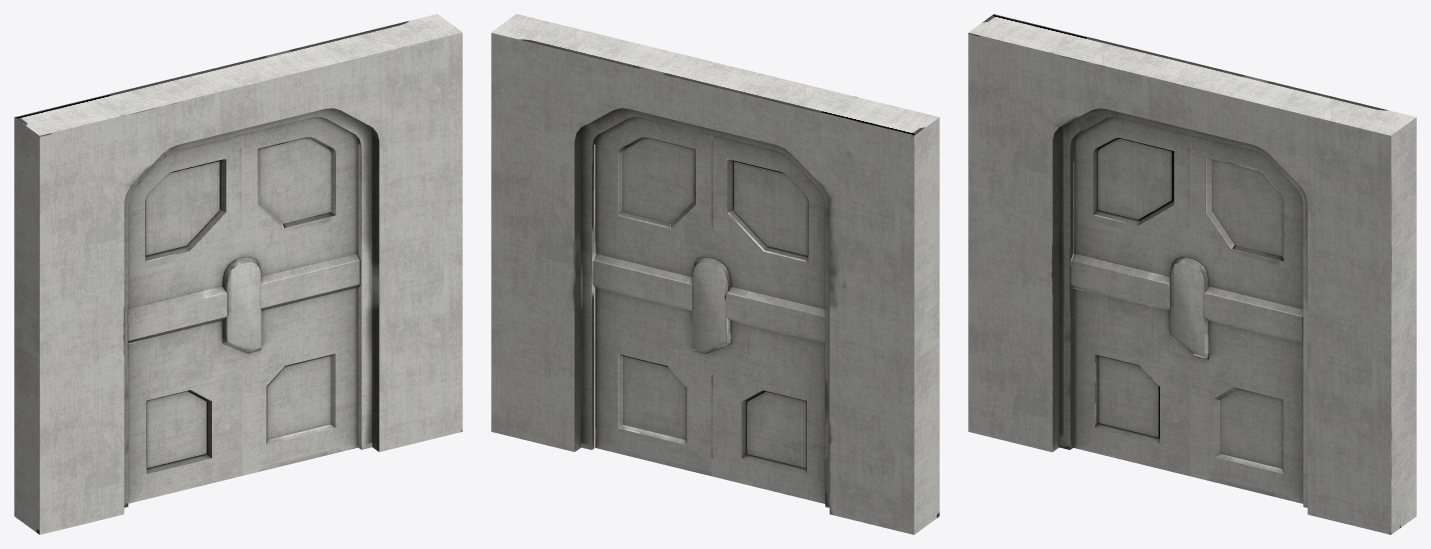
Rendered from SM_SciFiDoor.fbx.
The picture shows the model from 3 angles, left to right: view 1: azimuth 30°, elevation 25°; view 2: azimuth 150°, elevation 25°; view 3: azimuth 330°, elevation 25°; orthographic projection.
Visible parts, largest first — view 1: Doorframe, DoorL, DoorR; view 2: Doorframe, DoorL, DoorR; view 3: Doorframe, DoorL, DoorR.
Part boxes in pixels (x1,y1,x2,y2): Doorframe: (14, 14, 462, 534); DoorL: (204, 117, 360, 475); DoorR: (128, 134, 241, 503); Doorframe: (491, 14, 939, 534); DoorL: (592, 117, 749, 476); DoorR: (711, 135, 825, 503); Doorframe: (968, 14, 1416, 534); DoorL: (1149, 135, 1303, 503); DoorR: (1070, 117, 1189, 476).
Size of the model in its own units: 280 by 252 by 29.36.
Materials: 1 (1 with a texture image).
